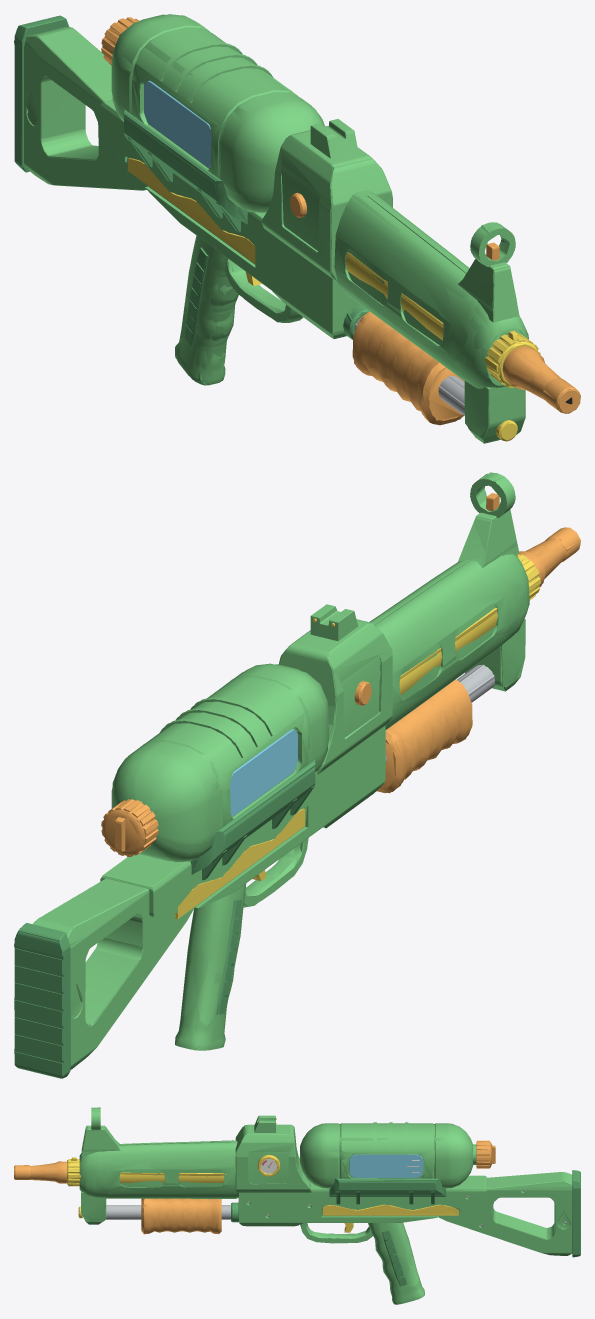
Rendered from soaker.glb.
3 views of the same model, one above another, from view 1: azimuth 30°, elevation 25°; view 2: azimuth 150°, elevation 25°; view 3: azimuth 270°, elevation 25° (orthographic). The views are drawn at different scales.
Visible parts, largest first — view 1: body, lod, mag; view 2: body, lod, mag; view 3: body, lod, mag.
Boxes of the visible parts, bbox=[...] form: body: bbox=[14, 15, 580, 442]; lod: bbox=[14, 14, 580, 443]; mag: bbox=[101, 14, 324, 212]; body: bbox=[14, 472, 580, 1078]; lod: bbox=[14, 472, 580, 1078]; mag: bbox=[101, 664, 328, 861]; body: bbox=[14, 1108, 580, 1304]; lod: bbox=[14, 1107, 580, 1304]; mag: bbox=[300, 1122, 495, 1188].
Size of the model in its own units: 0.0952 by 0.3254 by 0.865.
